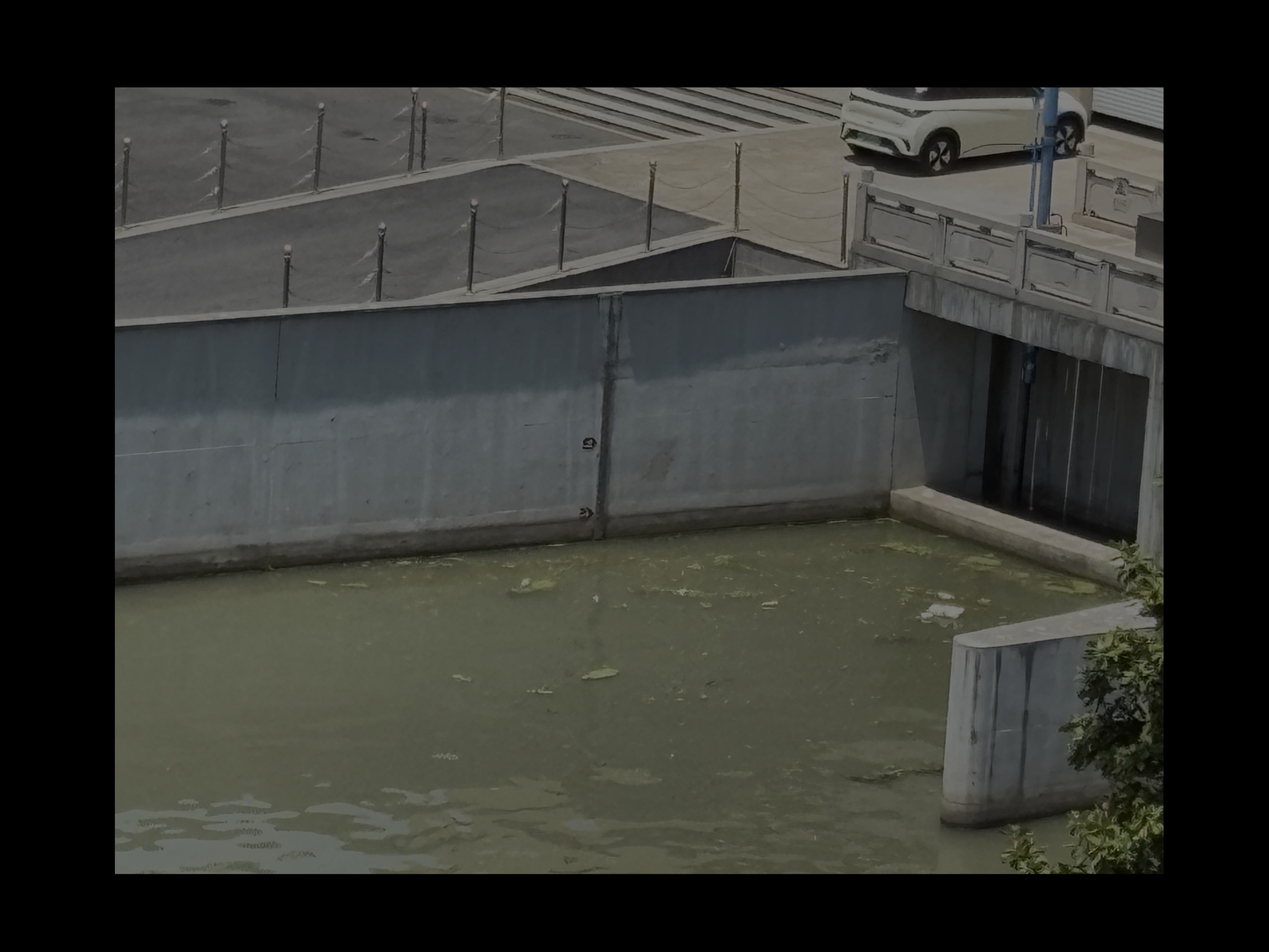Other: (841, 766, 920, 785), (507, 576, 551, 596), (881, 538, 932, 553), (636, 584, 706, 594), (1043, 581, 1093, 593), (580, 666, 617, 679), (710, 555, 739, 569), (970, 558, 997, 567)
Plastic wastes: (922, 604, 964, 620)
